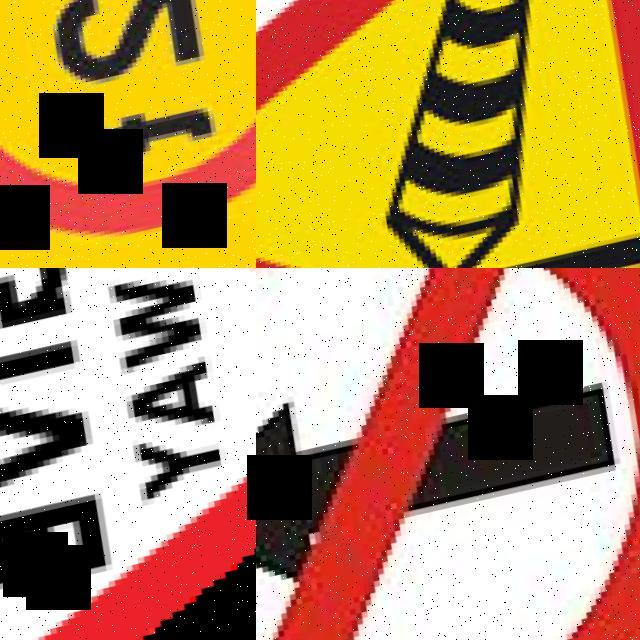155: (256, 0, 640, 268)
82: (0, 0, 256, 268)
No entry: (256, 268, 640, 640)
